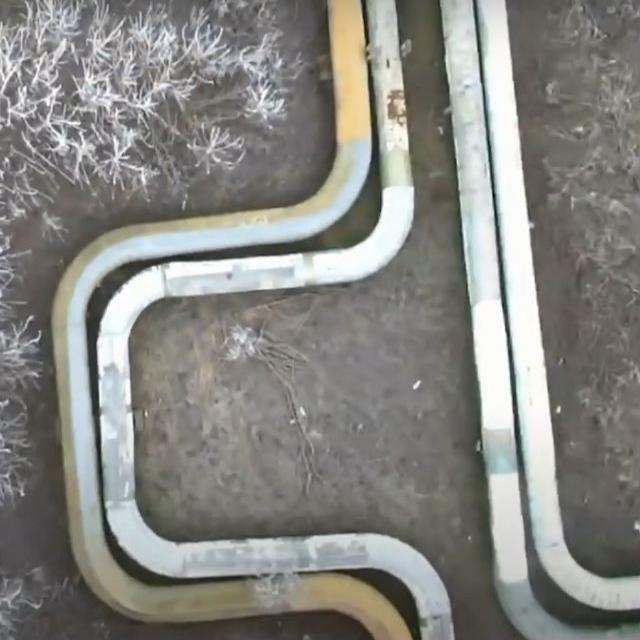gas: (50, 1, 412, 639), (98, 0, 455, 640), (441, 3, 640, 640), (478, 0, 640, 613)
